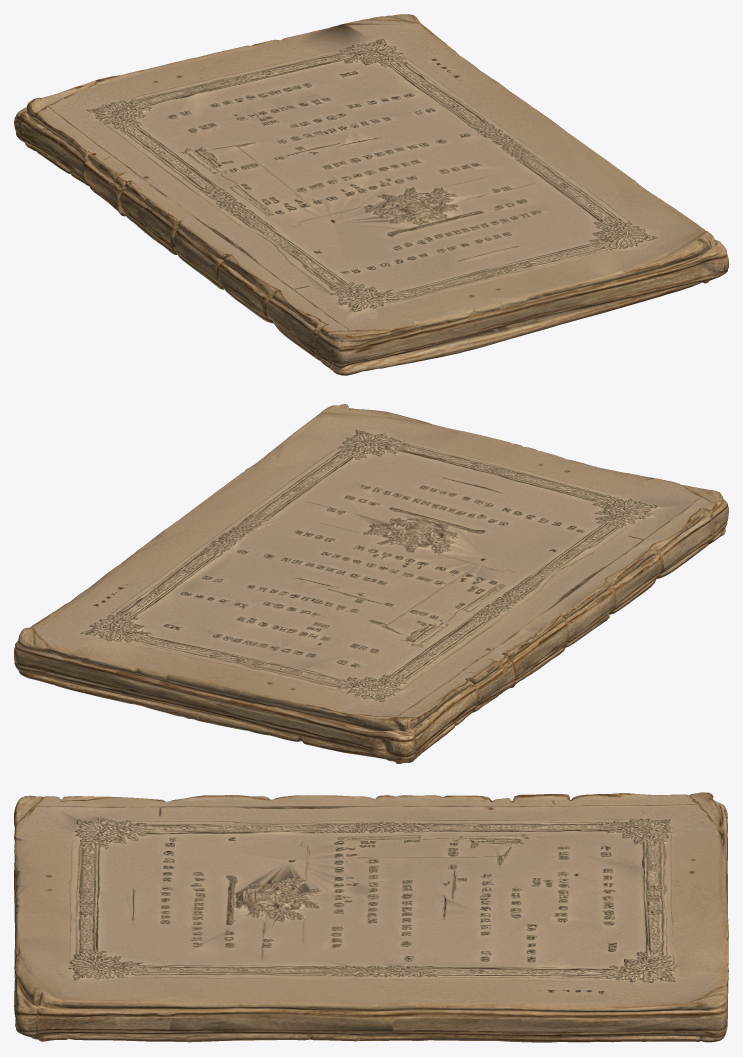
Rendered from Pamphlet.fbx.
3 renders of one model, top to bottom at view 1: azimuth 30°, elevation 25°; view 2: azimuth 150°, elevation 25°; view 3: azimuth 270°, elevation 25°, orthographic. The views are drawn at different scales.
Visible parts, largest first — view 1: tripo_node_e80e113d; view 2: tripo_node_e80e113d; view 3: tripo_node_e80e113d.
Boxes of the visible parts, left/top/right/bottom form: tripo_node_e80e113d: left=14, top=14, right=728, bottom=375; tripo_node_e80e113d: left=14, top=404, right=728, bottom=763; tripo_node_e80e113d: left=14, top=792, right=728, bottom=1042.
Bounding box in the file's own units: 68.76 × 8.11 × 97.82.
Materials: 1 (1 with a texture image).
